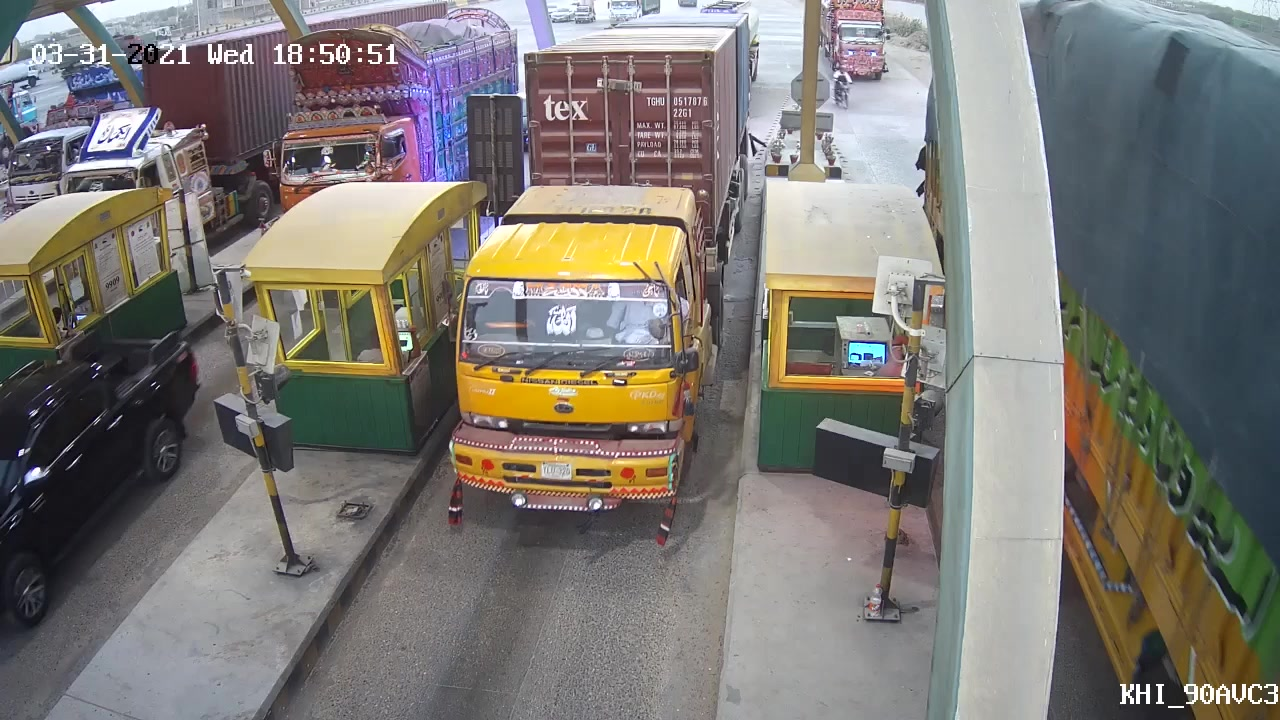F6: (421, 7, 760, 535)
